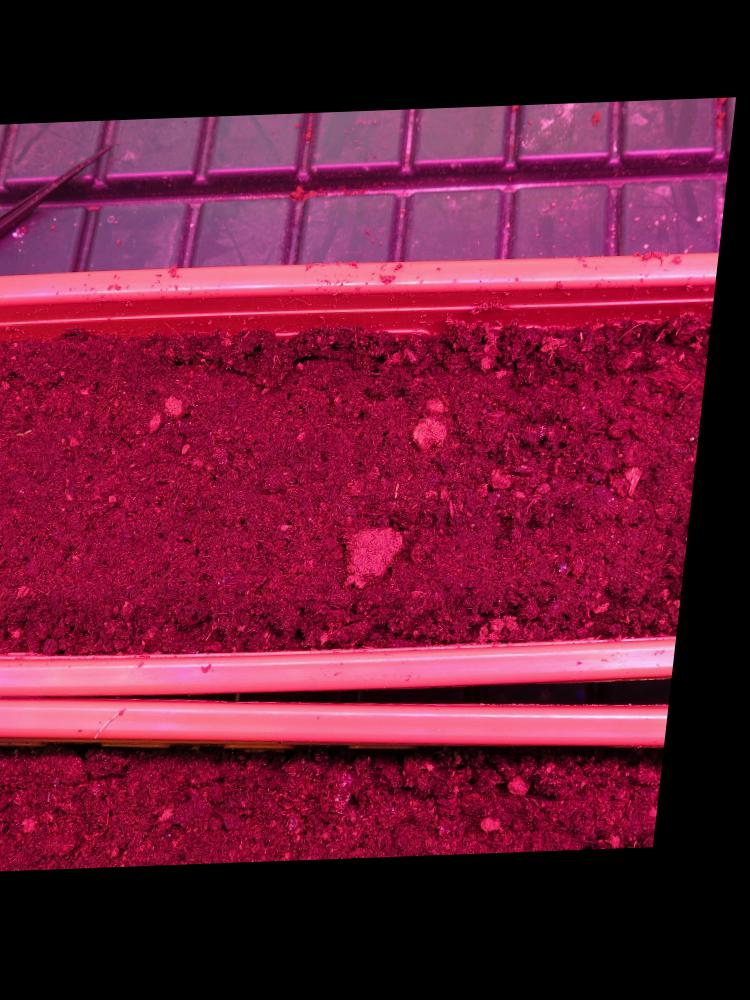weed: (24, 429, 43, 435)
